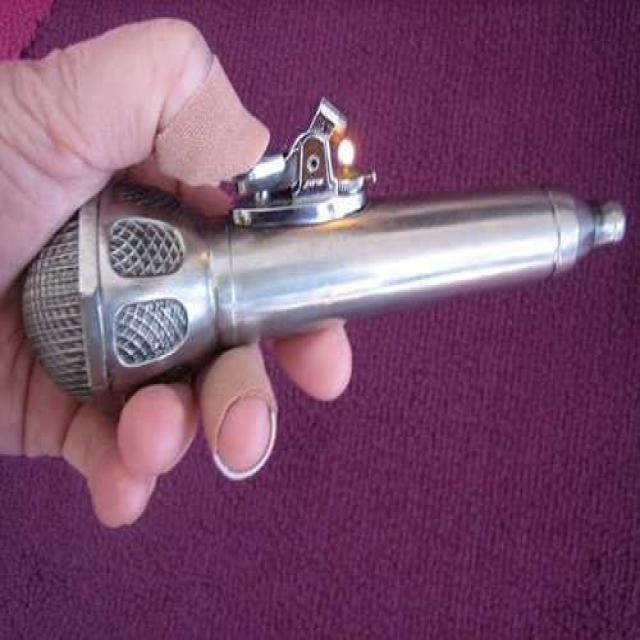microphone: (23, 103, 630, 417)
